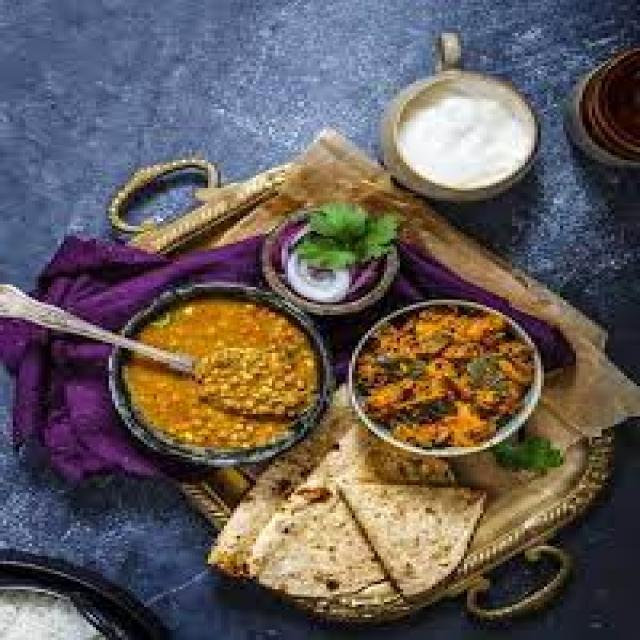curd: (371, 64, 552, 201)
rice: (349, 302, 547, 455)
veg-fry: (354, 298, 539, 455)
